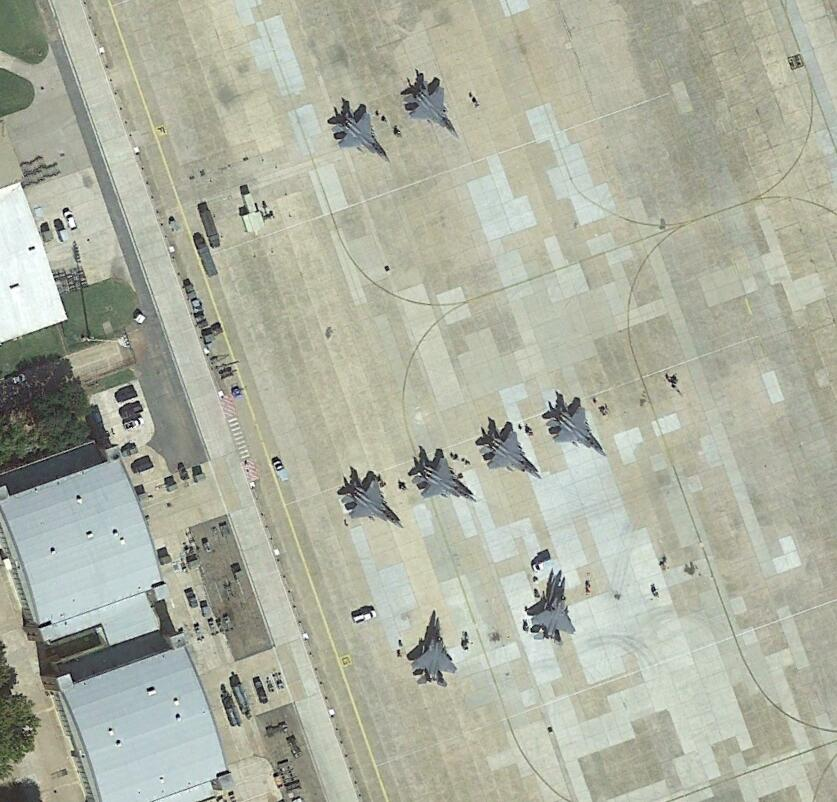A13: (336, 467, 407, 536), (323, 96, 391, 168), (403, 605, 461, 688), (401, 71, 466, 144), (406, 447, 479, 510), (546, 390, 610, 460), (482, 418, 544, 483), (525, 570, 576, 648)
